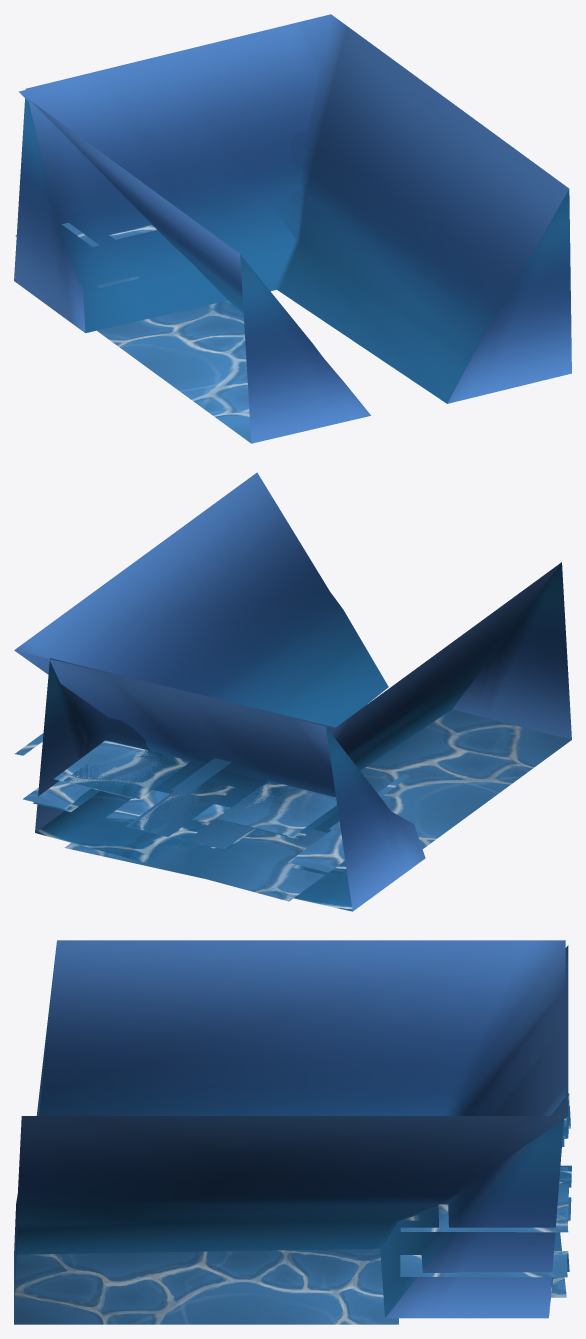
File: water light.fbx
The picture shows the model from 3 angles, top to bottom: view 1: azimuth 30°, elevation 25°; view 2: azimuth 150°, elevation 25°; view 3: azimuth 270°, elevation 25°; orthographic projection. The views are drawn at different scales.
Visible parts, largest first — view 1: water light.002, water light.001; view 2: water light.002, water light.001; view 3: water light.001, water light.002.
Boxes of the visible parts, <box> form: water light.002: <box>14,14,571,403</box>; water light.001: <box>19,23,370,443</box>; water light.002: <box>14,472,425,911</box>; water light.001: <box>33,562,571,901</box>; water light.001: <box>36,940,569,1318</box>; water light.002: <box>14,945,571,1324</box>.
Size of the model in its own units: 1495 by 803 by 1941.
